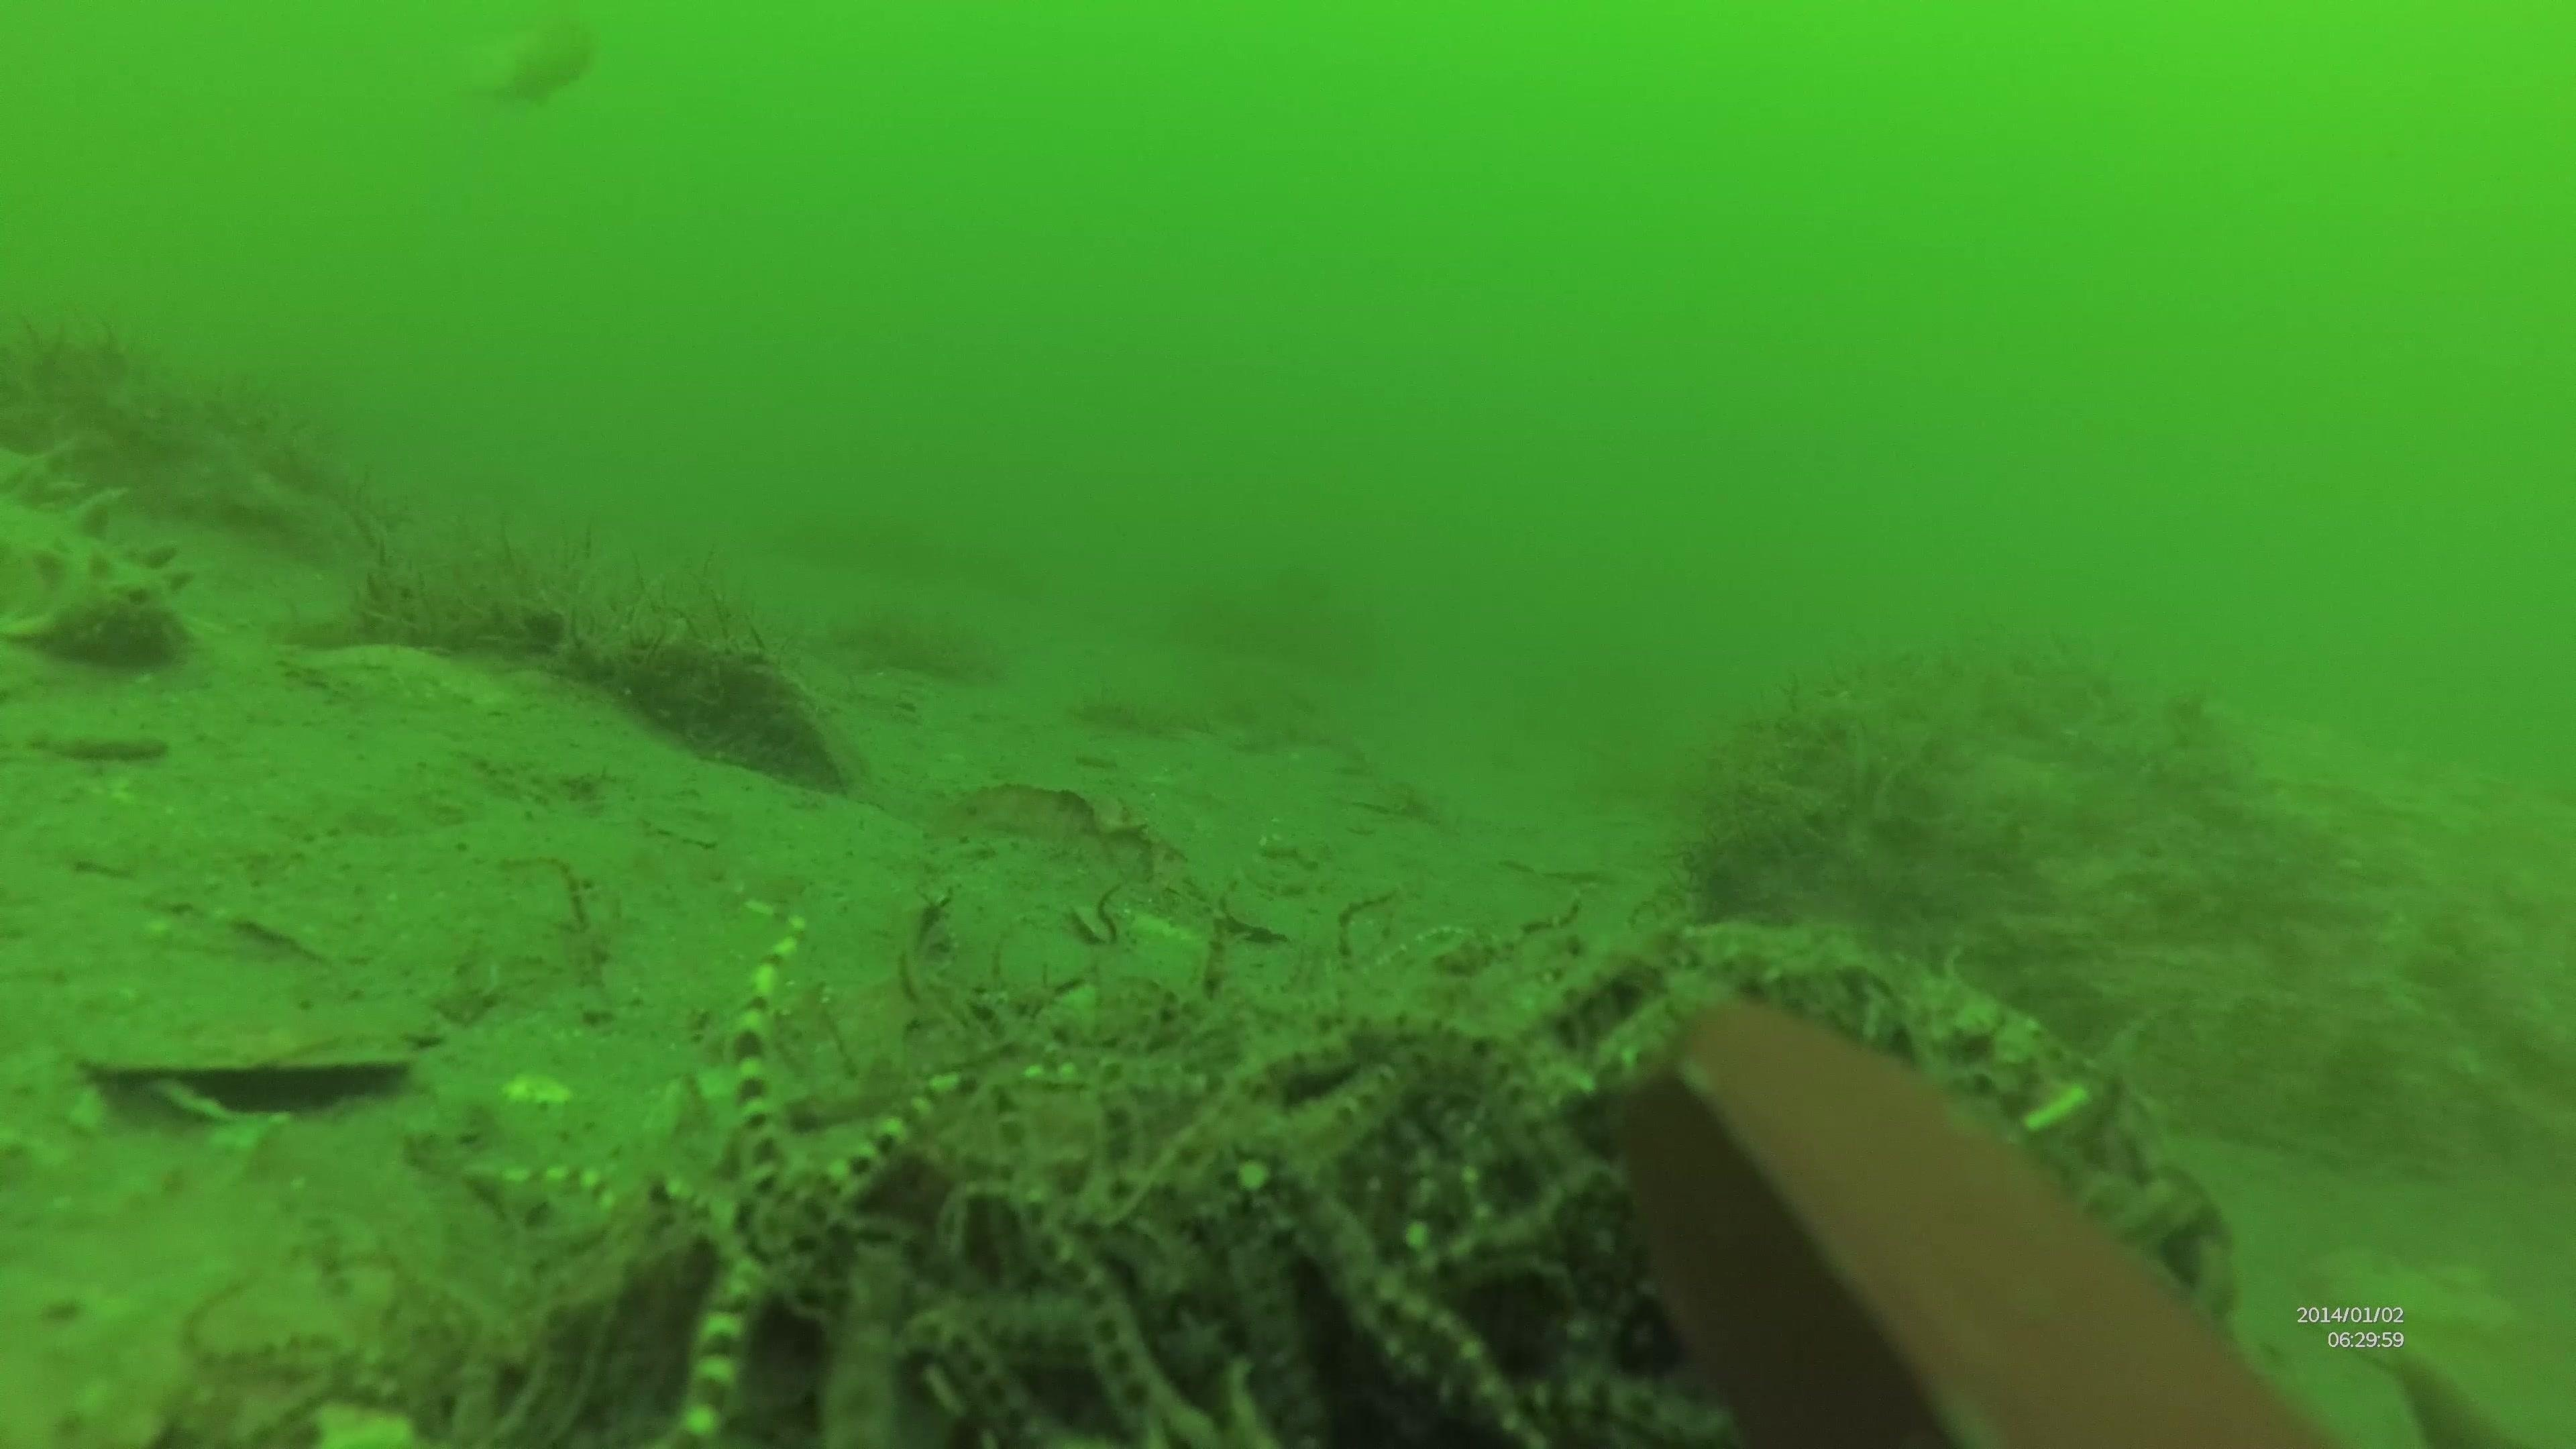holothurian: (1645, 913, 2001, 1065), (0, 433, 196, 678)
scallop: (65, 957, 433, 1118)
